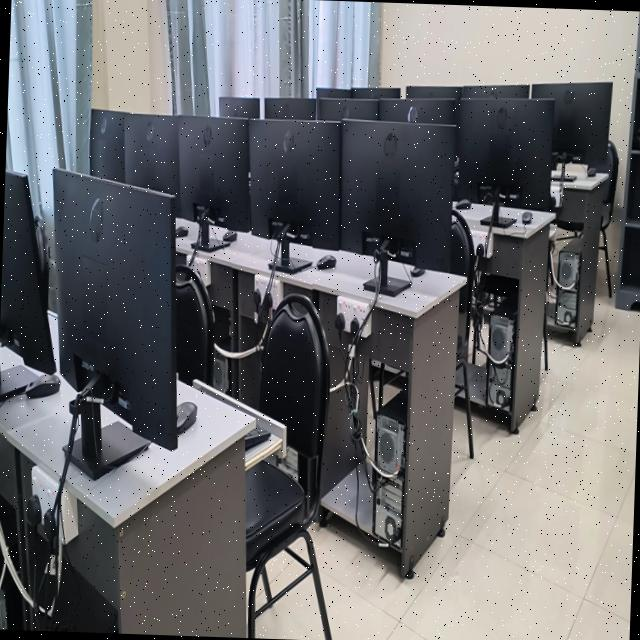Chair: (246, 294, 329, 638), (452, 208, 474, 457), (175, 264, 214, 384), (597, 140, 618, 297)
Cpu: (374, 385, 407, 548), (486, 314, 513, 408), (553, 248, 581, 329)
Monitor: (53, 169, 178, 450), (339, 119, 455, 271), (248, 119, 340, 250), (0, 170, 56, 374), (454, 98, 553, 210), (178, 115, 251, 232), (531, 82, 612, 166), (124, 113, 180, 213), (90, 109, 129, 181), (379, 98, 455, 125), (318, 96, 379, 120), (265, 97, 315, 119), (218, 96, 259, 118), (462, 85, 529, 98), (406, 85, 461, 99), (351, 87, 400, 98), (316, 87, 351, 98)
Mouse: (177, 401, 197, 434), (316, 254, 336, 269), (455, 198, 471, 209), (410, 266, 425, 277), (222, 230, 237, 241), (175, 226, 188, 237), (522, 210, 532, 222), (587, 167, 596, 176)
